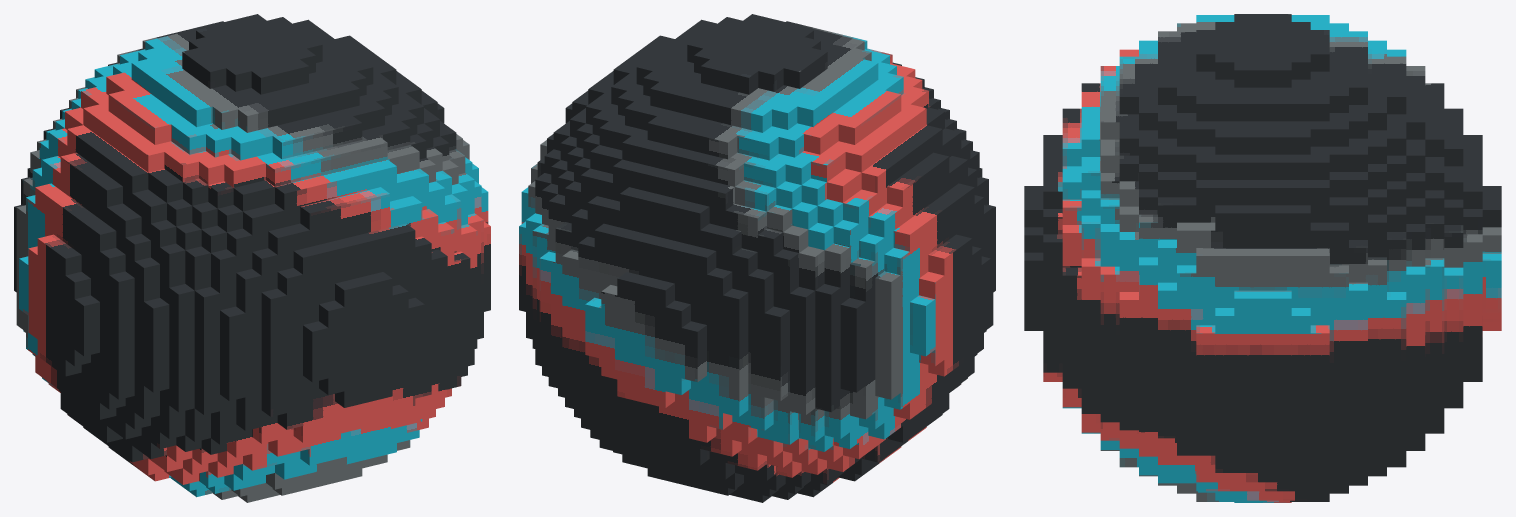
Rendered from repulsion.glb.
The picture shows the model from 3 angles, left to right: view 1: azimuth 30°, elevation 25°; view 2: azimuth 150°, elevation 25°; view 3: azimuth 270°, elevation 25°; orthographic projection. The views are drawn at different scales.
Parts seen in each view (by area): view 1: RepulsionBall_01.001; view 2: RepulsionBall_01.001; view 3: RepulsionBall_01.001.
Boxes of the visible parts, x1,y1,x2,y2 form: RepulsionBall_01.001: (14,14,490,502); RepulsionBall_01.001: (519,14,995,502); RepulsionBall_01.001: (1024,14,1501,502).
Size of the model in its own units: 2.5 by 2.5 by 2.5.
Materials: 1 (1 with a texture image).
